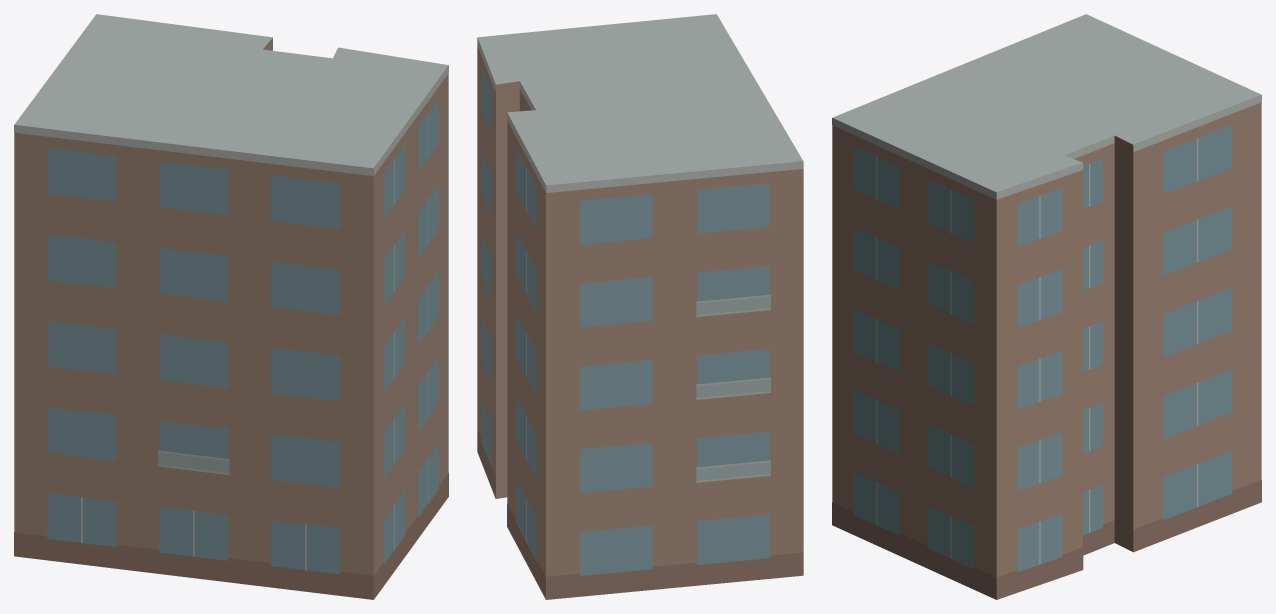
File: survey-upis-32651367.glb
3 views of the same model, side by side, from view 1: azimuth 30°, elevation 25°; view 2: azimuth 150°, elevation 25°; view 3: azimuth 270°, elevation 25° (orthographic). The views are drawn at different scales.
Visible parts, largest first — view 1: survey-upis-32651367.tmp; view 2: survey-upis-32651367.tmp; view 3: survey-upis-32651367.tmp.
Part boxes in pixels (left/top/right/bottom): survey-upis-32651367.tmp: left=14, top=14, right=448, bottom=599; survey-upis-32651367.tmp: left=477, top=14, right=803, bottom=599; survey-upis-32651367.tmp: left=832, top=14, right=1261, bottom=599.
Bounding box in the file's own units: 12.59 × 13.4 × 12.81.
